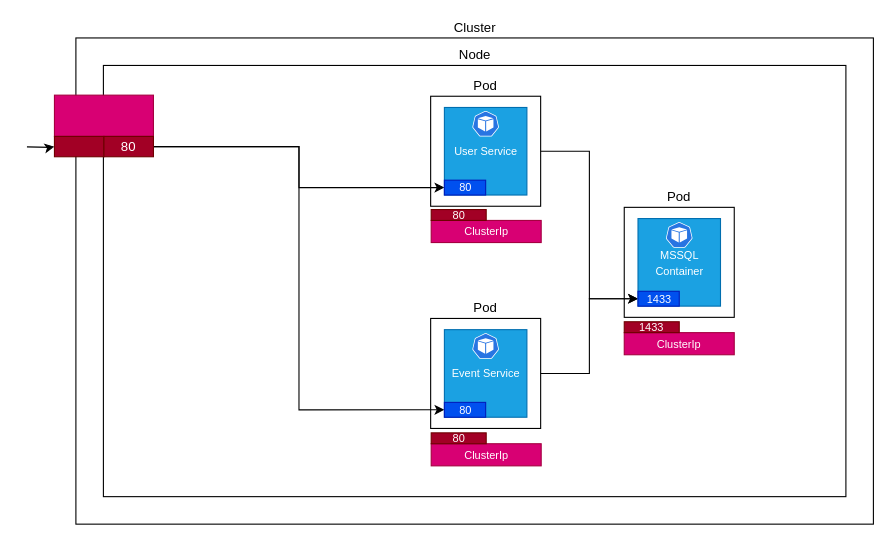
The diagram is 893 pixels wide and 543 high, and some of its shapes have lost their labels. Each missing label, with the centre of its shape:
ingress-nginx: pixel 103 115
xxxxx: pixel 78 146
